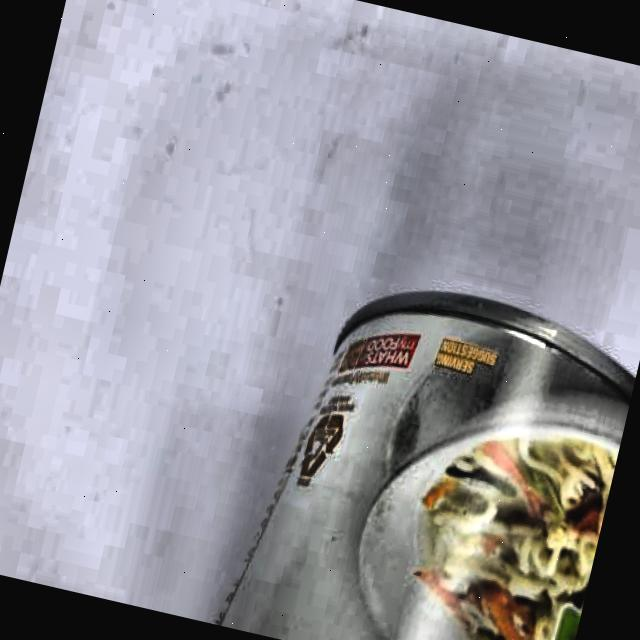metal: (233, 254, 640, 640)
